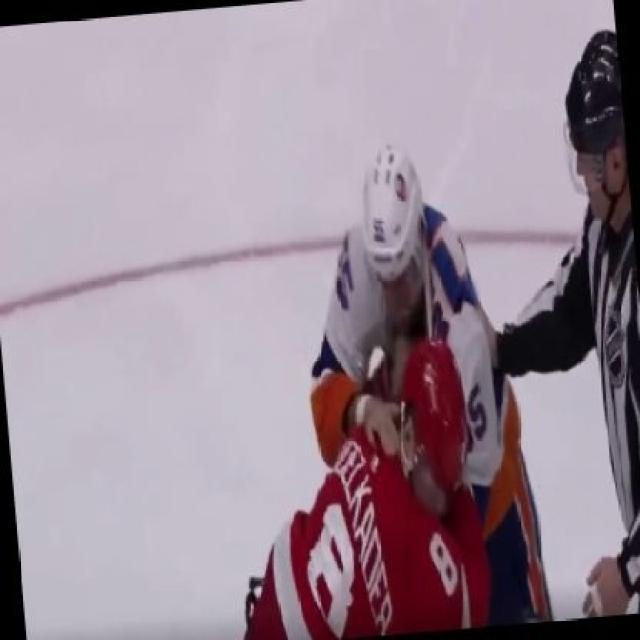fight: (277, 123, 552, 635)
non-fight: (481, 29, 640, 638)
